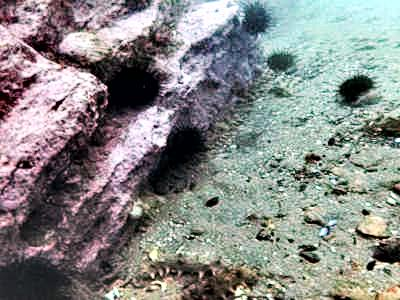urchin: (6, 255, 74, 297), (104, 60, 161, 109), (165, 121, 206, 165), (333, 72, 375, 102), (240, 3, 273, 33), (267, 50, 295, 72)
